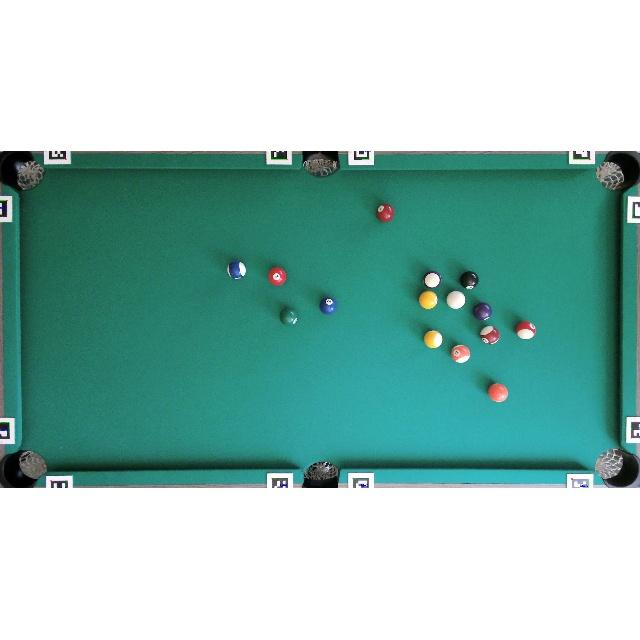cue ball: (446, 291, 466, 309)
other: (488, 383, 508, 403), (516, 320, 536, 340), (418, 290, 438, 309), (268, 266, 287, 286), (480, 326, 500, 345), (227, 261, 246, 280), (473, 302, 492, 321), (319, 297, 338, 315), (280, 307, 298, 326), (451, 345, 470, 363), (376, 204, 394, 222), (424, 331, 442, 348), (461, 272, 478, 290), (424, 271, 441, 288)
